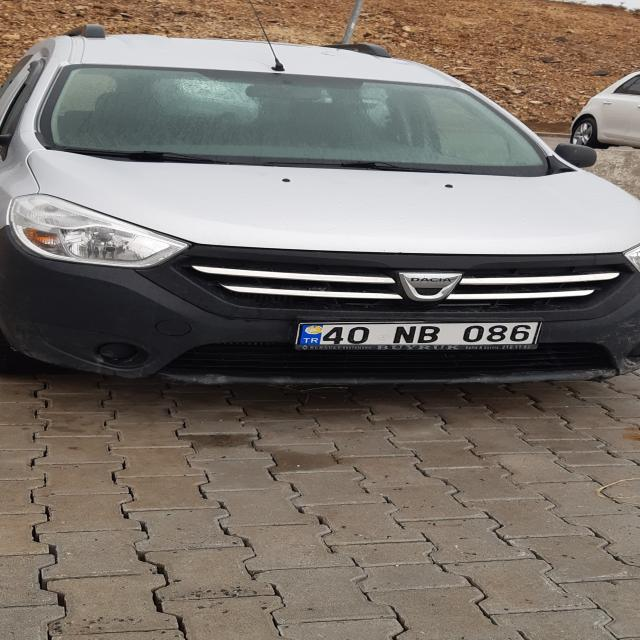plate: (298, 321, 540, 345)
